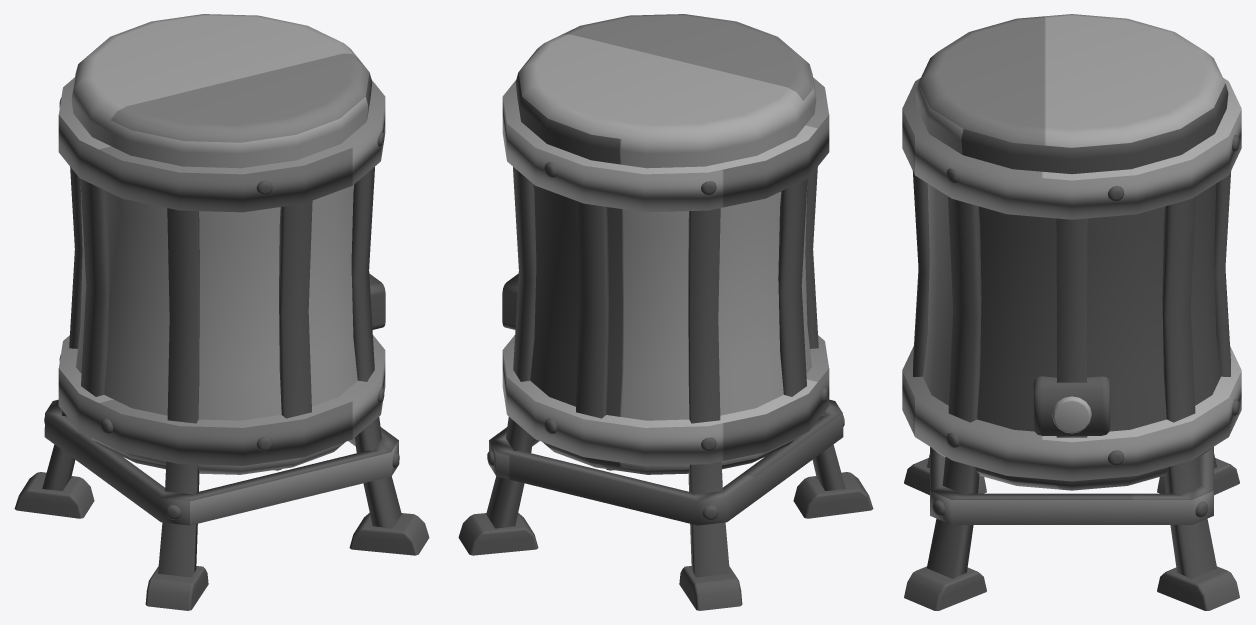
File: SM_cuve_low.fbx
3 renders of one model, left to right at view 1: azimuth 30°, elevation 25°; view 2: azimuth 150°, elevation 25°; view 3: azimuth 270°, elevation 25°, orthographic. The views are drawn at different scales.
Parts seen in each view (by area): view 1: SM_cuve_low; view 2: SM_cuve_low; view 3: SM_cuve_low.
Boxes of the visible parts, x1,y1,x2,y2 form: SM_cuve_low: (14,14,429,610); SM_cuve_low: (458,14,873,610); SM_cuve_low: (902,14,1241,610).
Size of the model in its own units: 2 by 2.96 by 1.95.
Materials: 1 (1 with a texture image).
